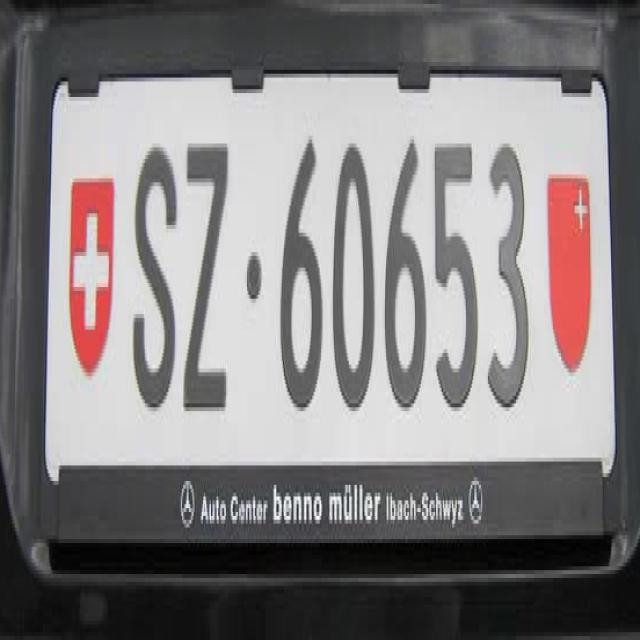Autre: (46, 84, 613, 467)
